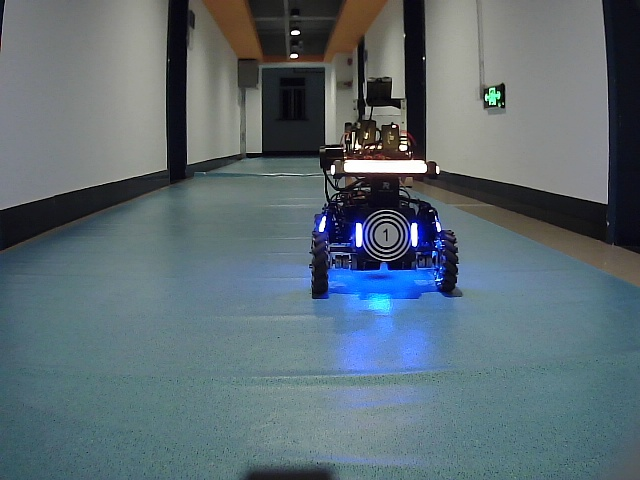lamp: (351, 219, 364, 251), (409, 220, 419, 249)
pair: (353, 221, 418, 249)
